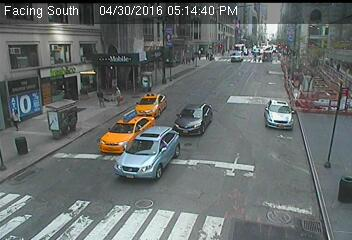neg: (123, 31, 141, 55), (25, 128, 42, 150), (328, 107, 345, 129), (94, 190, 110, 212), (143, 187, 159, 208), (58, 183, 73, 203), (202, 17, 217, 36), (147, 10, 160, 29), (269, 91, 282, 109), (299, 63, 312, 80), (87, 24, 100, 41), (261, 137, 273, 154), (282, 36, 294, 53), (39, 61, 51, 78), (234, 122, 246, 137), (144, 70, 156, 85), (185, 152, 196, 168), (208, 73, 219, 88), (56, 103, 67, 118), (223, 155, 234, 169), (253, 162, 264, 176), (44, 34, 54, 48), (249, 61, 259, 74), (137, 146, 147, 159), (309, 44, 319, 57), (193, 105, 202, 118), (306, 134, 315, 146), (254, 29, 263, 41), (75, 69, 83, 80), (66, 151, 73, 161), (240, 87, 247, 96), (104, 63, 111, 72), (69, 48, 75, 56), (216, 112, 220, 118)
pos: (6, 109, 23, 132), (109, 85, 125, 107), (92, 88, 106, 107), (191, 54, 197, 63), (181, 55, 187, 64)
